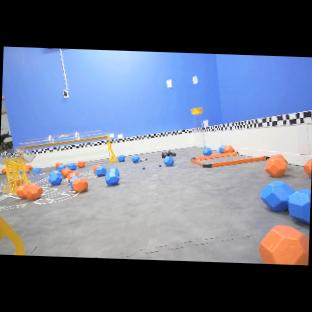V5_BLUE: (95, 166, 119, 186), (162, 152, 176, 166), (219, 145, 234, 153), (203, 148, 212, 156), (131, 155, 139, 163), (118, 155, 125, 162)
V5_RED: (15, 180, 43, 201), (58, 165, 79, 182), (73, 179, 88, 193), (25, 165, 34, 174), (93, 164, 101, 174), (77, 161, 85, 168), (2, 169, 8, 177), (55, 162, 63, 167), (11, 180, 14, 186)
pieces: (48, 163, 88, 193), (93, 165, 119, 186), (16, 184, 43, 202), (163, 156, 174, 167), (77, 161, 85, 168), (32, 168, 41, 174), (20, 171, 22, 174)
